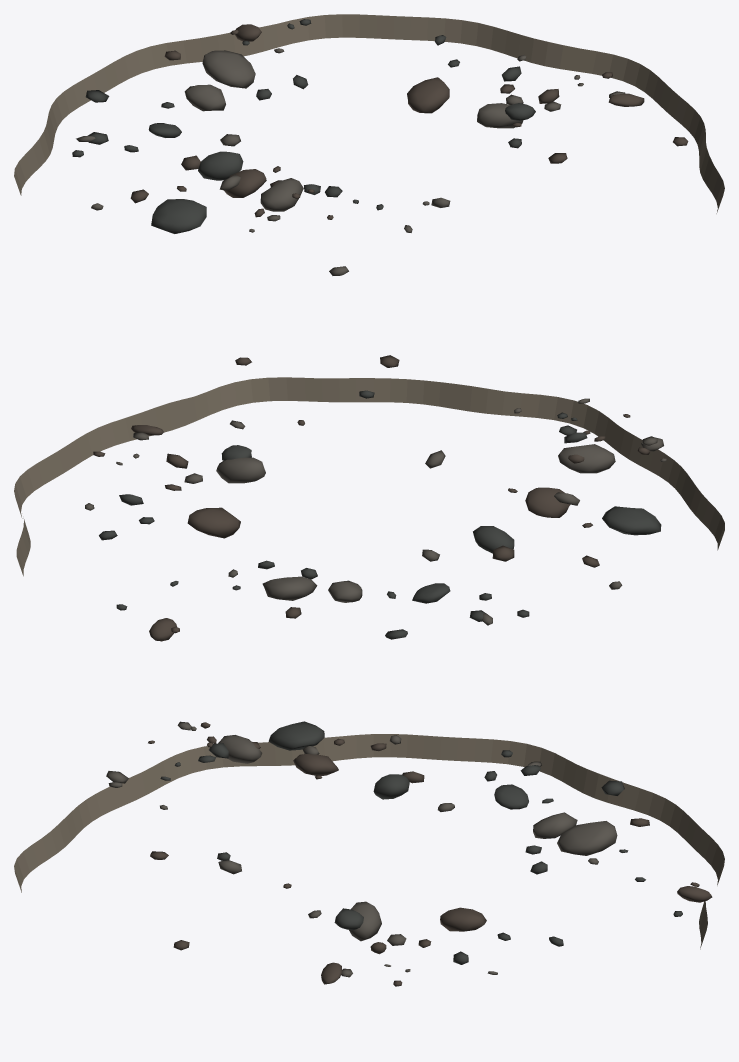
File: highland-sample.glb
3 renders of one model, top to bottom at view 1: azimuth 30°, elevation 25°; view 2: azimuth 150°, elevation 25°; view 3: azimuth 270°, elevation 25°, orthographic.
Visible parts, largest first — view 1: EarthCut, EmbeddedStoneBatch_PaleLimestone, EmbeddedStoneBatch_Slate, EmbeddedStoneBatch_Ironstone; view 2: EarthCut, EmbeddedStoneBatch_PaleLimestone, EmbeddedStoneBatch_Slate, EmbeddedStoneBatch_Ironstone; view 3: EarthCut, EmbeddedStoneBatch_PaleLimestone, EmbeddedStoneBatch_Slate, EmbeddedStoneBatch_Ironstone.
Part boxes in pixels (x1,y1,x2,y2): EarthCut: (14, 14, 724, 213); EmbeddedStoneBatch_PaleLimestone: (76, 48, 625, 275); EmbeddedStoneBatch_Slate: (72, 19, 535, 233); EmbeddedStoneBatch_Ironstone: (130, 24, 688, 219); EarthCut: (14, 377, 724, 576); EmbeddedStoneBatch_PaleLimestone: (85, 398, 666, 625); EmbeddedStoneBatch_Slate: (99, 390, 661, 639); EmbeddedStoneBatch_Ironstone: (93, 355, 650, 641); EarthCut: (14, 734, 724, 949); EmbeddedStoneBatch_PaleLimestone: (106, 721, 617, 977); EmbeddedStoneBatch_Slate: (160, 721, 682, 964); EmbeddedStoneBatch_Ironstone: (148, 722, 712, 986).
Size of what is drawn, in the model's own units: 32.62 by 4.58 by 33.08.
